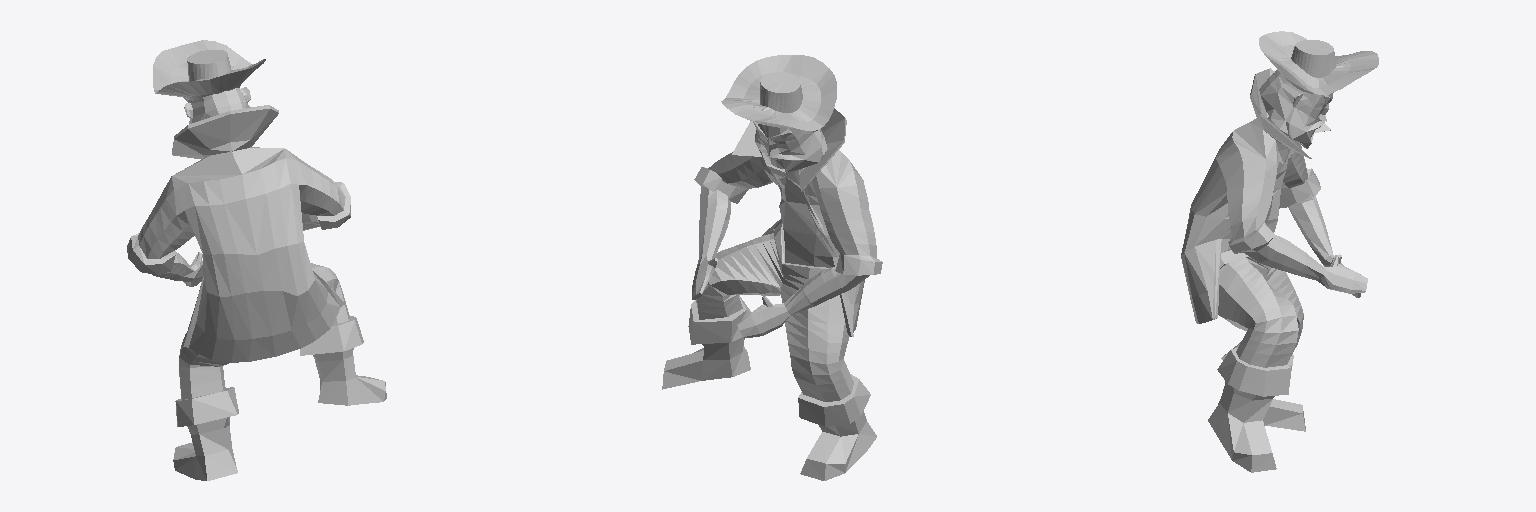
Rendered from pirata_000252.obj.
3 renders of one model, left to right at view 1: azimuth 30°, elevation 25°; view 2: azimuth 150°, elevation 25°; view 3: azimuth 270°, elevation 25°, orthographic.
Visible parts, largest first — view 1: Pirata_PirataH; view 2: Pirata_PirataH; view 3: Pirata_PirataH.
Part boxes in pixels (left/top/right/bottom): Pirata_PirataH: left=127, top=40, right=386, bottom=480; Pirata_PirataH: left=662, top=55, right=882, bottom=480; Pirata_PirataH: left=1181, top=31, right=1378, bottom=472.
Bounding box in the file's own units: 5.55 × 9.06 × 4.09.